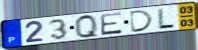2: (23, 20, 46, 44)
3: (48, 18, 69, 40)
D: (129, 9, 155, 34)
E: (99, 11, 124, 37)
L: (157, 7, 176, 29)
Q: (74, 13, 101, 39)
